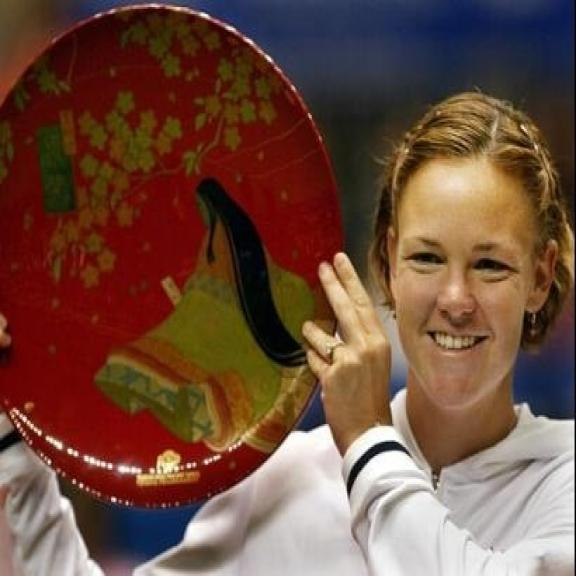face: (383, 155, 561, 422)
